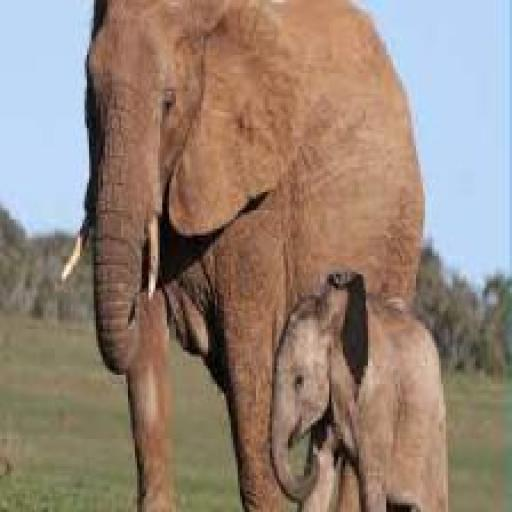Elephant: (62, 0, 441, 512), (231, 224, 466, 512)
